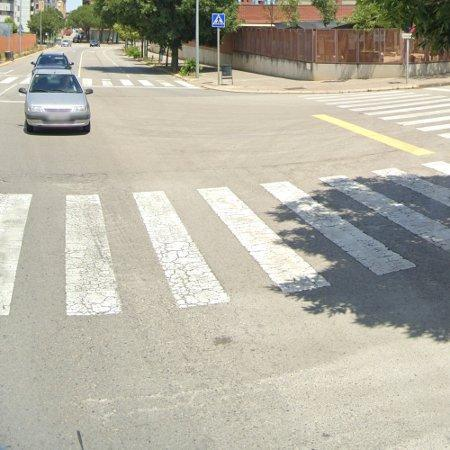crosswalk: (0, 160, 450, 319)
